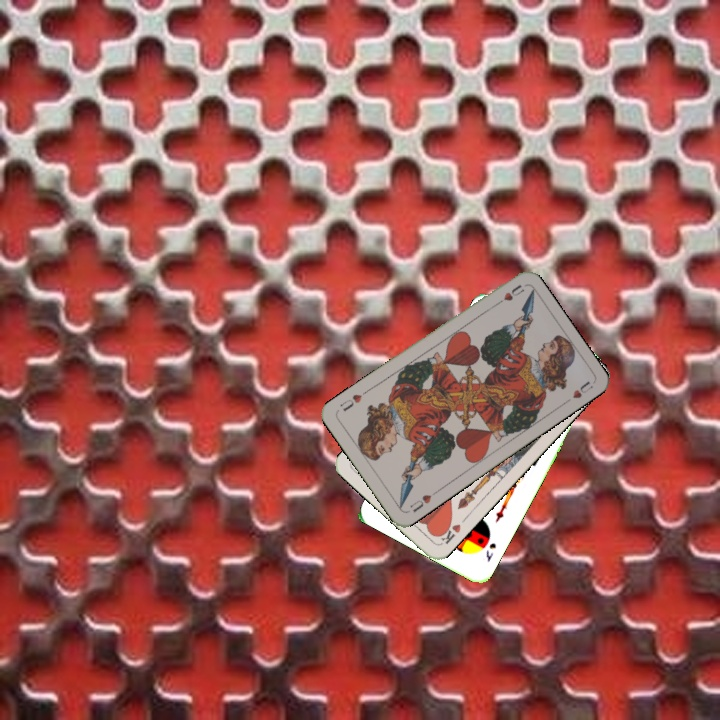HK: (434, 517, 463, 547)
HU: (491, 281, 527, 309), (405, 490, 434, 515)
SK: (482, 539, 499, 564)
